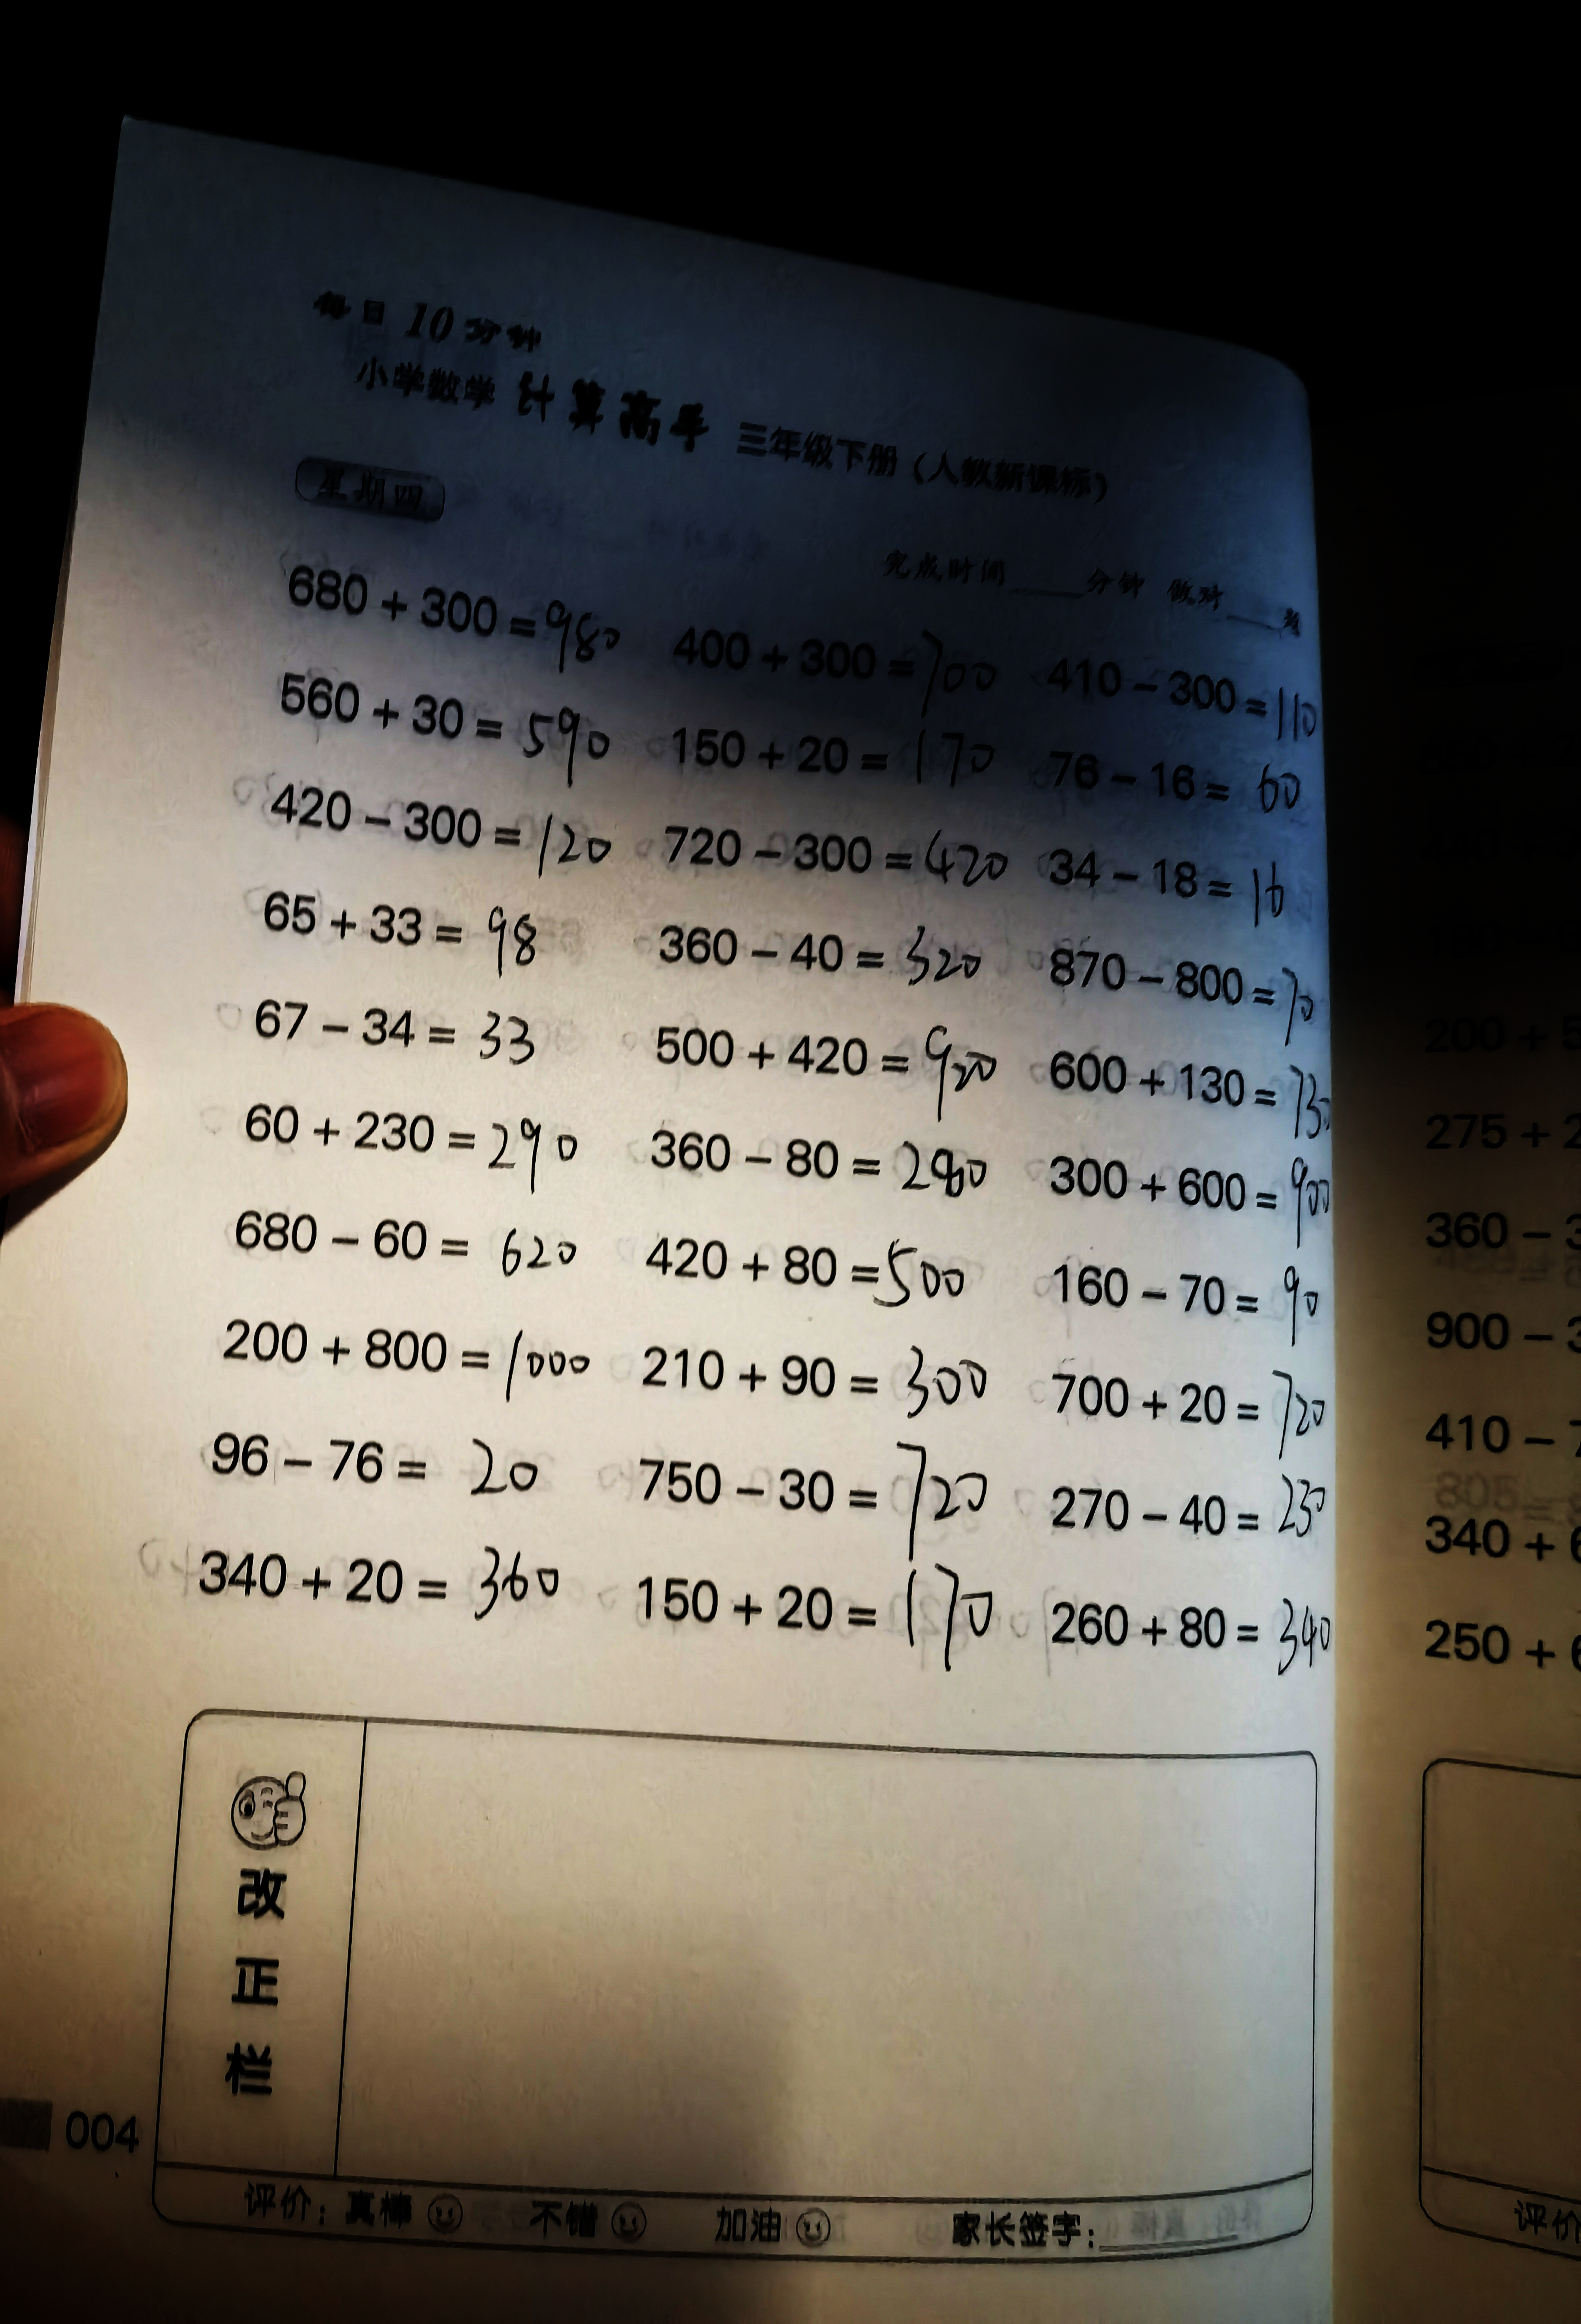equation: (247, 542, 632, 665), (621, 1436, 1008, 1551), (184, 1532, 586, 1638), (618, 1567, 1002, 1673), (642, 1011, 1023, 1115), (266, 678, 628, 785), (226, 1089, 591, 1195), (625, 1122, 1000, 1223), (219, 1301, 591, 1401), (199, 1419, 559, 1519), (646, 912, 1011, 1011), (1039, 1586, 1348, 1701), (263, 778, 637, 872), (656, 616, 1013, 713), (247, 866, 573, 971), (214, 1195, 591, 1285), (651, 711, 1013, 801), (1027, 935, 1341, 1038), (642, 1233, 988, 1325), (224, 981, 551, 1078), (1045, 1043, 1341, 1149), (656, 817, 1022, 902), (1052, 639, 1332, 748), (632, 1341, 1023, 1413), (1059, 1362, 1343, 1459), (1045, 1154, 1353, 1241), (1032, 1484, 1343, 1555), (1055, 750, 1322, 831), (1053, 1262, 1322, 1339), (1055, 845, 1295, 930)
